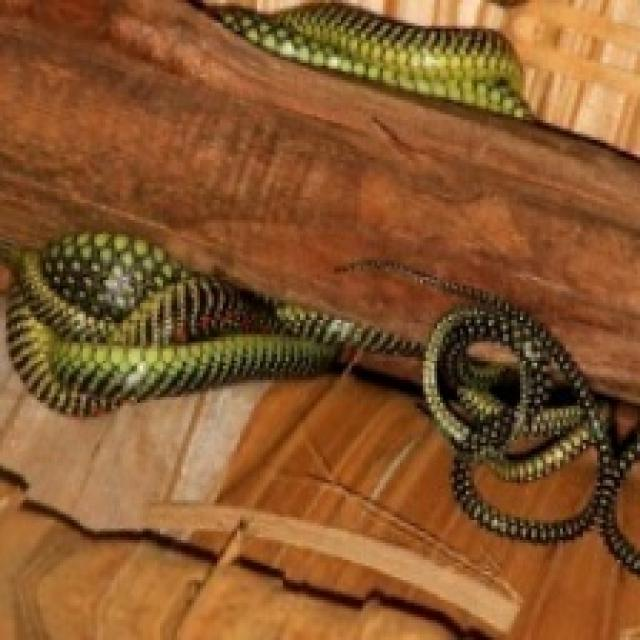paradise tree snake: (0, 0, 637, 400), (0, 294, 637, 637), (0, 337, 637, 637), (3, 506, 206, 577), (474, 446, 594, 537)
